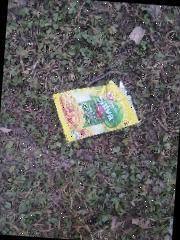general: (46, 76, 146, 150)
